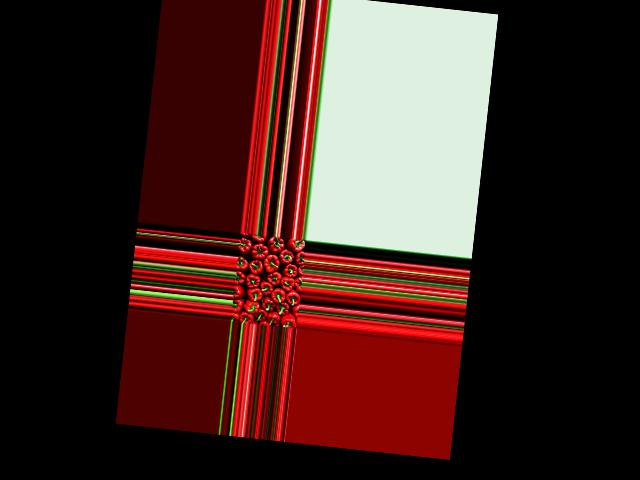bell_pepper: (282, 312, 297, 328)
